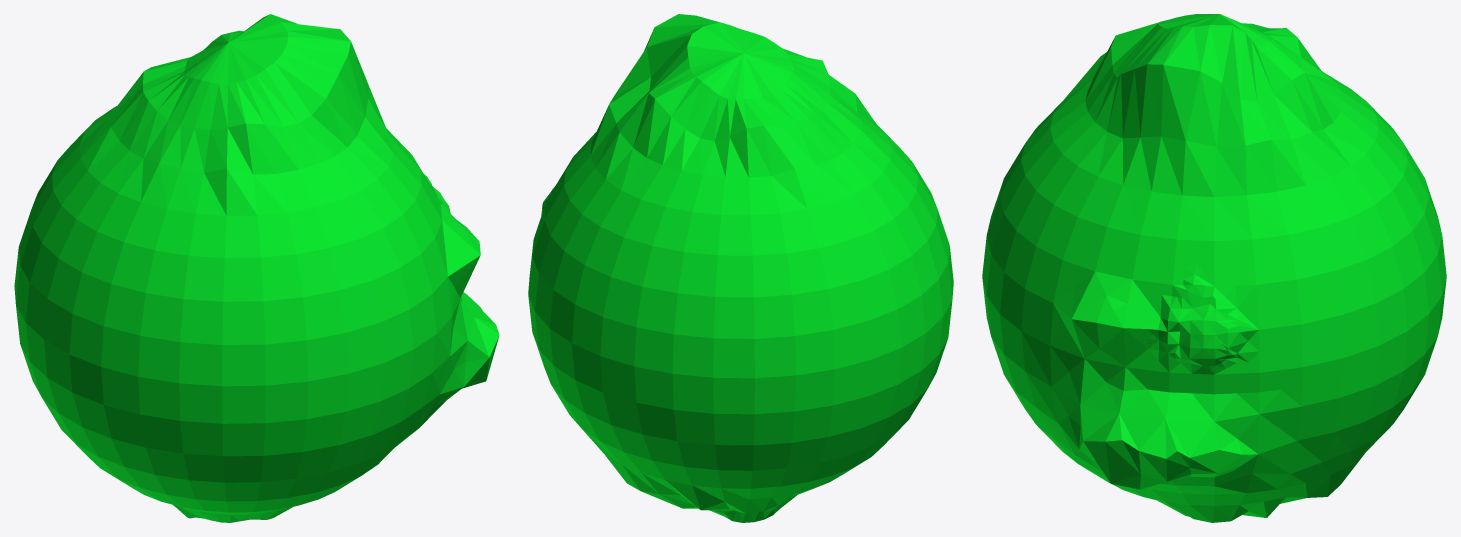
The model's file is mother_blob.fbx.
The picture shows the model from 3 angles, left to right: view 1: azimuth 30°, elevation 25°; view 2: azimuth 150°, elevation 25°; view 3: azimuth 270°, elevation 25°; orthographic projection. The views are drawn at different scales.
Parts seen in each view (by area): view 1: Sphere.001; view 2: Sphere.001; view 3: Sphere.001.
Part boxes in pixels (x1,y1,x2,y2): Sphere.001: [14, 14, 499, 522]; Sphere.001: [528, 14, 953, 522]; Sphere.001: [982, 14, 1446, 522].
Size of the model in its own units: 2.18 by 2.41 by 2.
